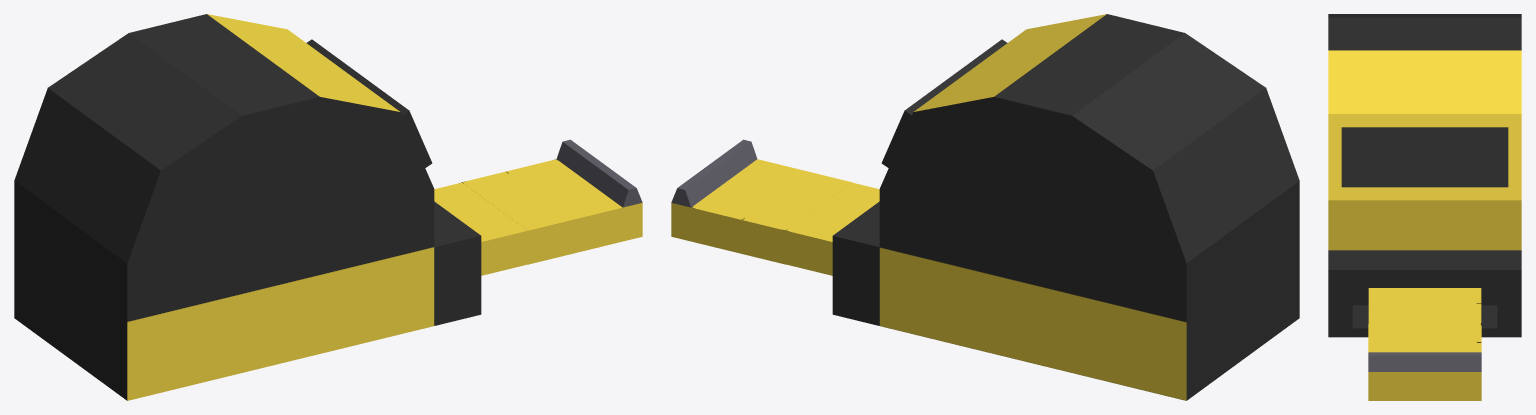
The model's file is Measure Tape.fbx.
3 views of the same model, side by side, from view 1: azimuth 30°, elevation 25°; view 2: azimuth 150°, elevation 25°; view 3: azimuth 270°, elevation 25° (orthographic). The views are drawn at different scales.
Parts seen in each view (by area): view 1: Body, Edge, Tape; view 2: Body, Edge, Tape; view 3: Body, Edge, Tape.
Boxes of the visible parts, left/top/right/bottom form: Body: left=14, top=14, right=481, bottom=400; Edge: left=462, top=139, right=642, bottom=264; Tape: left=434, top=182, right=527, bottom=275; Body: left=832, top=14, right=1299, bottom=400; Edge: left=671, top=139, right=851, bottom=264; Tape: left=786, top=182, right=879, bottom=275; Body: left=1328, top=14, right=1521, bottom=337; Edge: left=1368, top=324, right=1481, bottom=400; Tape: left=1368, top=288, right=1481, bottom=324.
Bounding box in the file's own units: 351 × 160 × 128.
Materials: 2 (2 with a texture image).
